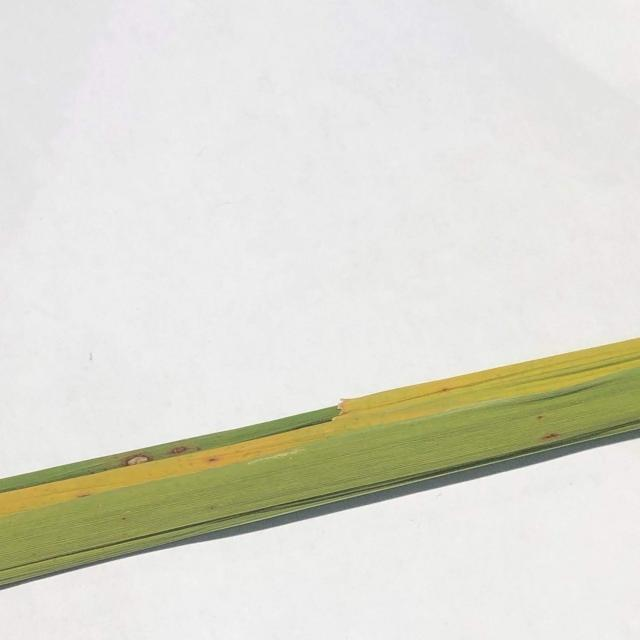Blast: (118, 454, 154, 470)
